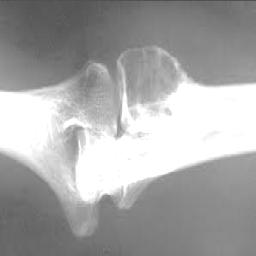cancer: (118, 44, 197, 136)
